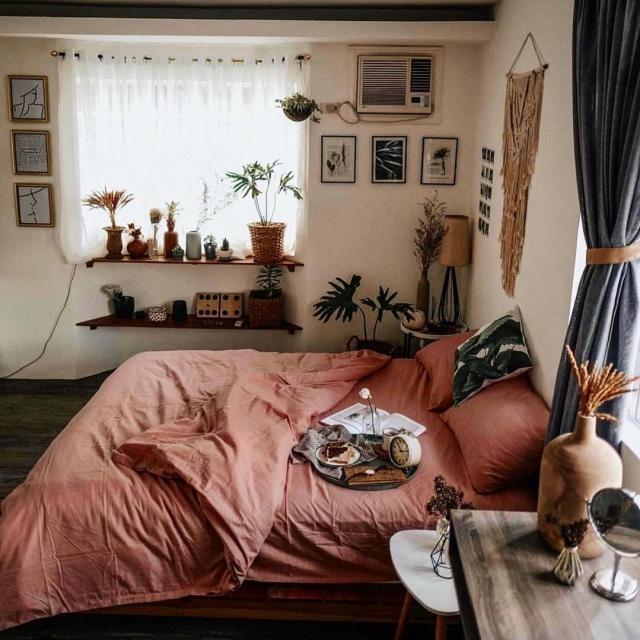bed: (10, 316, 608, 576)
